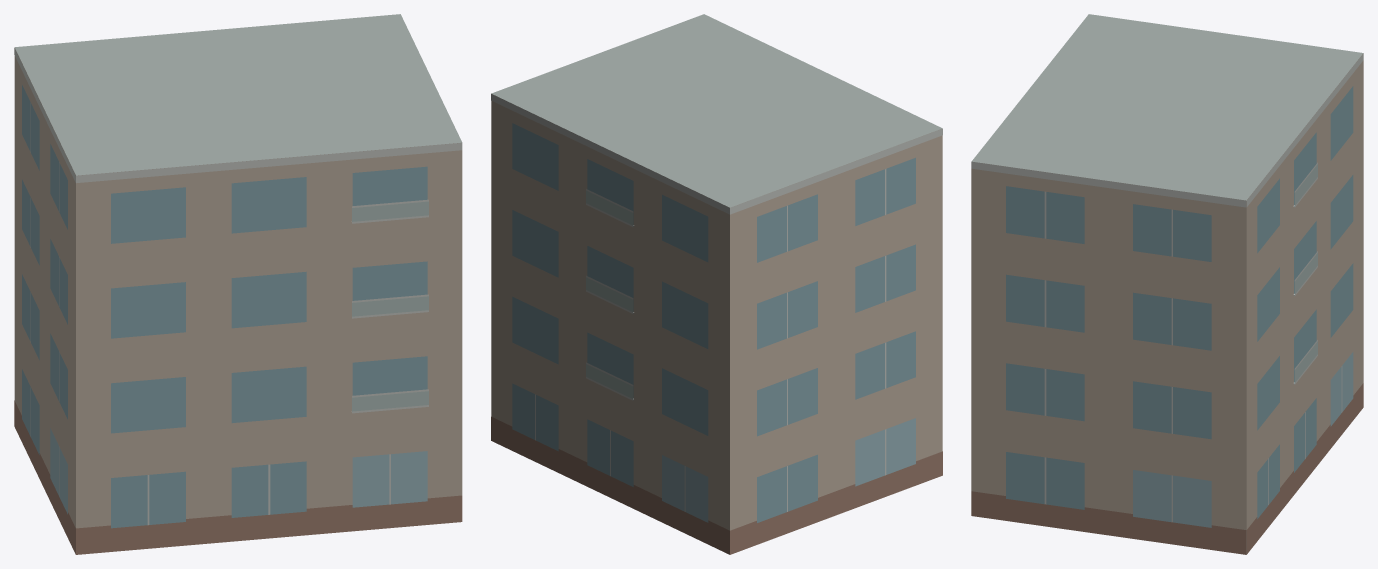
Rendered from residential-0fd4690c-c428-473b-87ae-60ba1d226eb2.glb.
The picture shows the model from 3 angles, left to right: view 1: azimuth 30°, elevation 25°; view 2: azimuth 150°, elevation 25°; view 3: azimuth 270°, elevation 25°; orthographic projection. The views are drawn at different scales.
Parts seen in each view (by area): view 1: residential-0fd4690c-c428-473b-87ae-60ba1d226eb2.tmp; view 2: residential-0fd4690c-c428-473b-87ae-60ba1d226eb2.tmp; view 3: residential-0fd4690c-c428-473b-87ae-60ba1d226eb2.tmp.
Part boxes in pixels (x1,y1,x2,y2): residential-0fd4690c-c428-473b-87ae-60ba1d226eb2.tmp: (14,14,462,554); residential-0fd4690c-c428-473b-87ae-60ba1d226eb2.tmp: (491,14,942,554); residential-0fd4690c-c428-473b-87ae-60ba1d226eb2.tmp: (971,14,1363,554).
Bounding box in the file's own units: 13.78 × 12.2 × 12.25.
